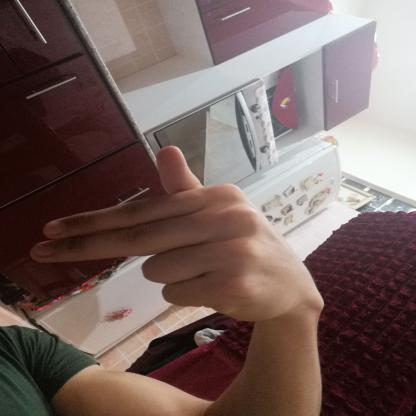GHAYN: (13, 134, 334, 330)
